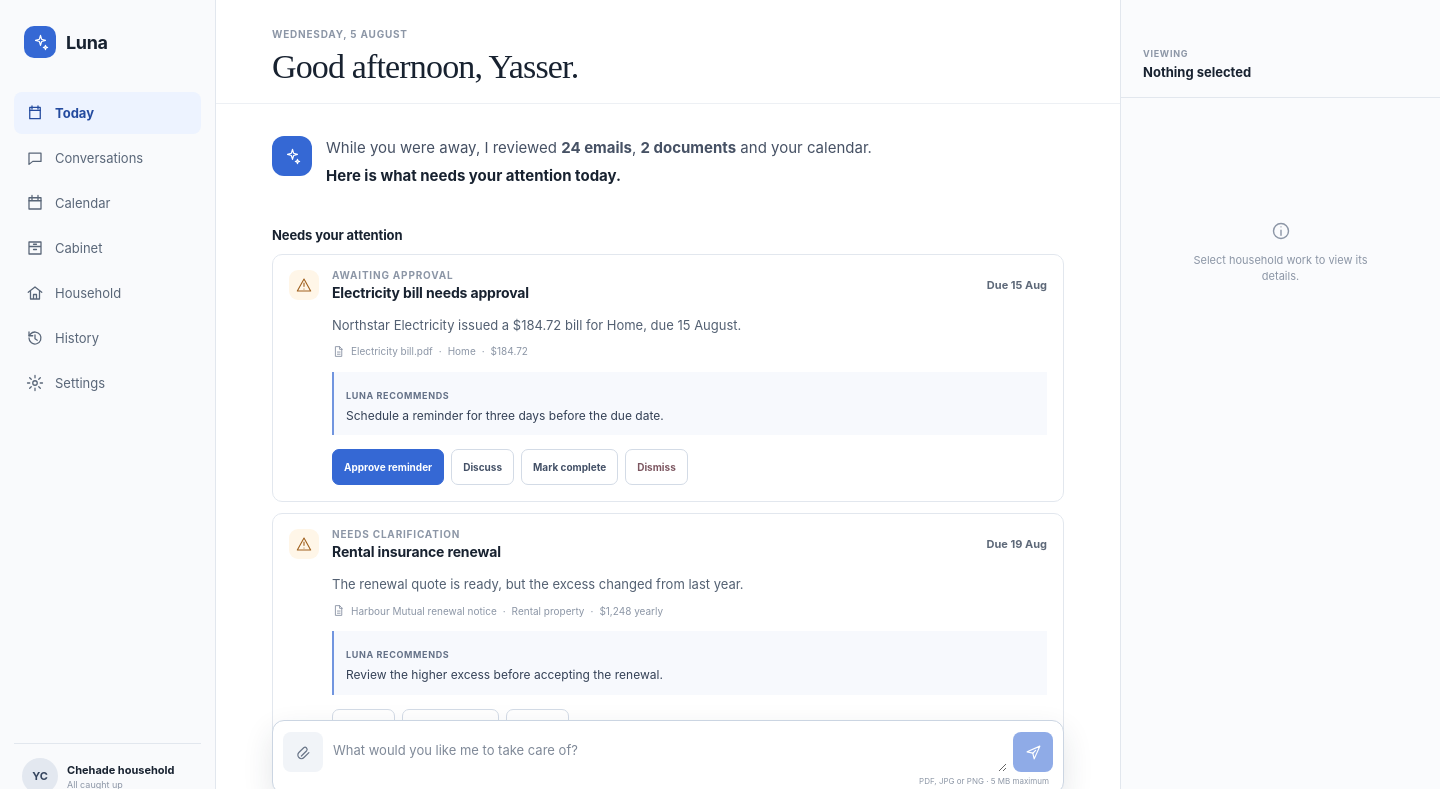
Test: production Today route › answers a global attention question even while electricity work is selected
The width and height of the screenshot is (1440, 789).
Click the button with aria-label "Open Electricity bill needs approval" at {"x": 393, "y": 274}, box [273,254,1063,314]
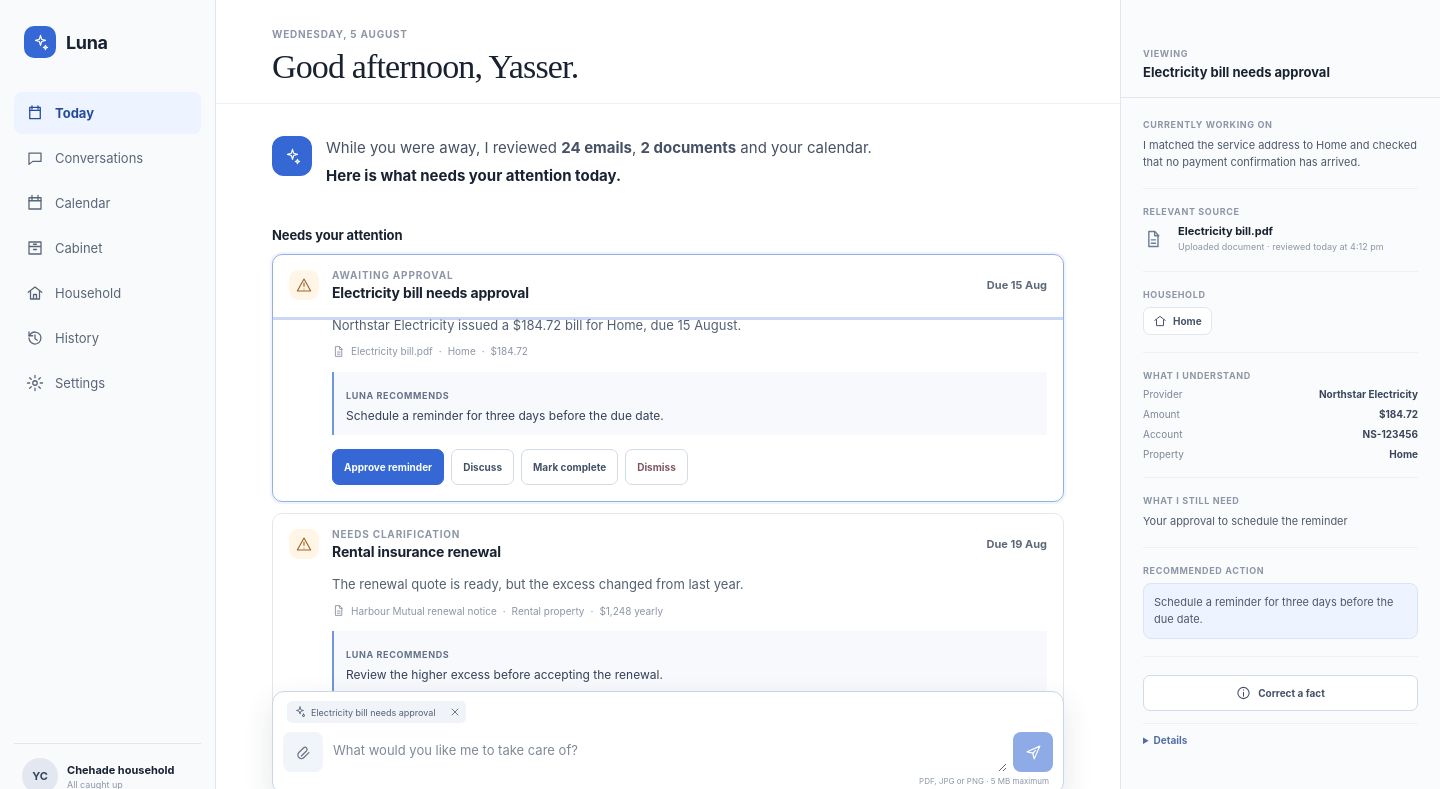
Type "What else needs attention?" into the text box named "Instruction for Luna" at {"x": 668, "y": 751}, box [329,730,1007,772]
Then press Enter
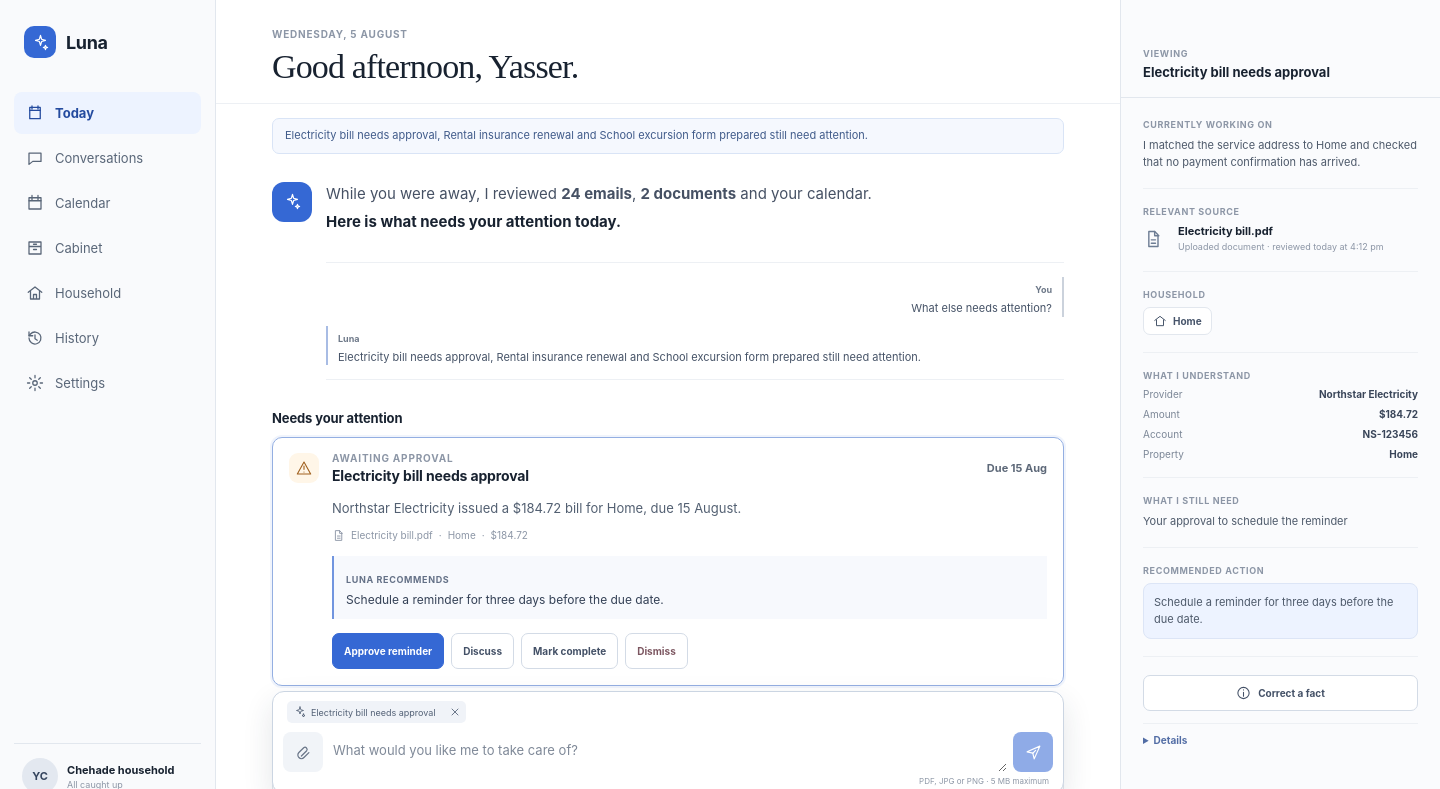
Now the element named "Working context" shows "Electricity bill needs approval", box [1143,64,1330,80]
Now the text "still need attention" shows "Rental insurance renewal", box [338,350,921,364]
Now the text "still need attention" shows "School excursion form prepared", box [338,350,921,364]
